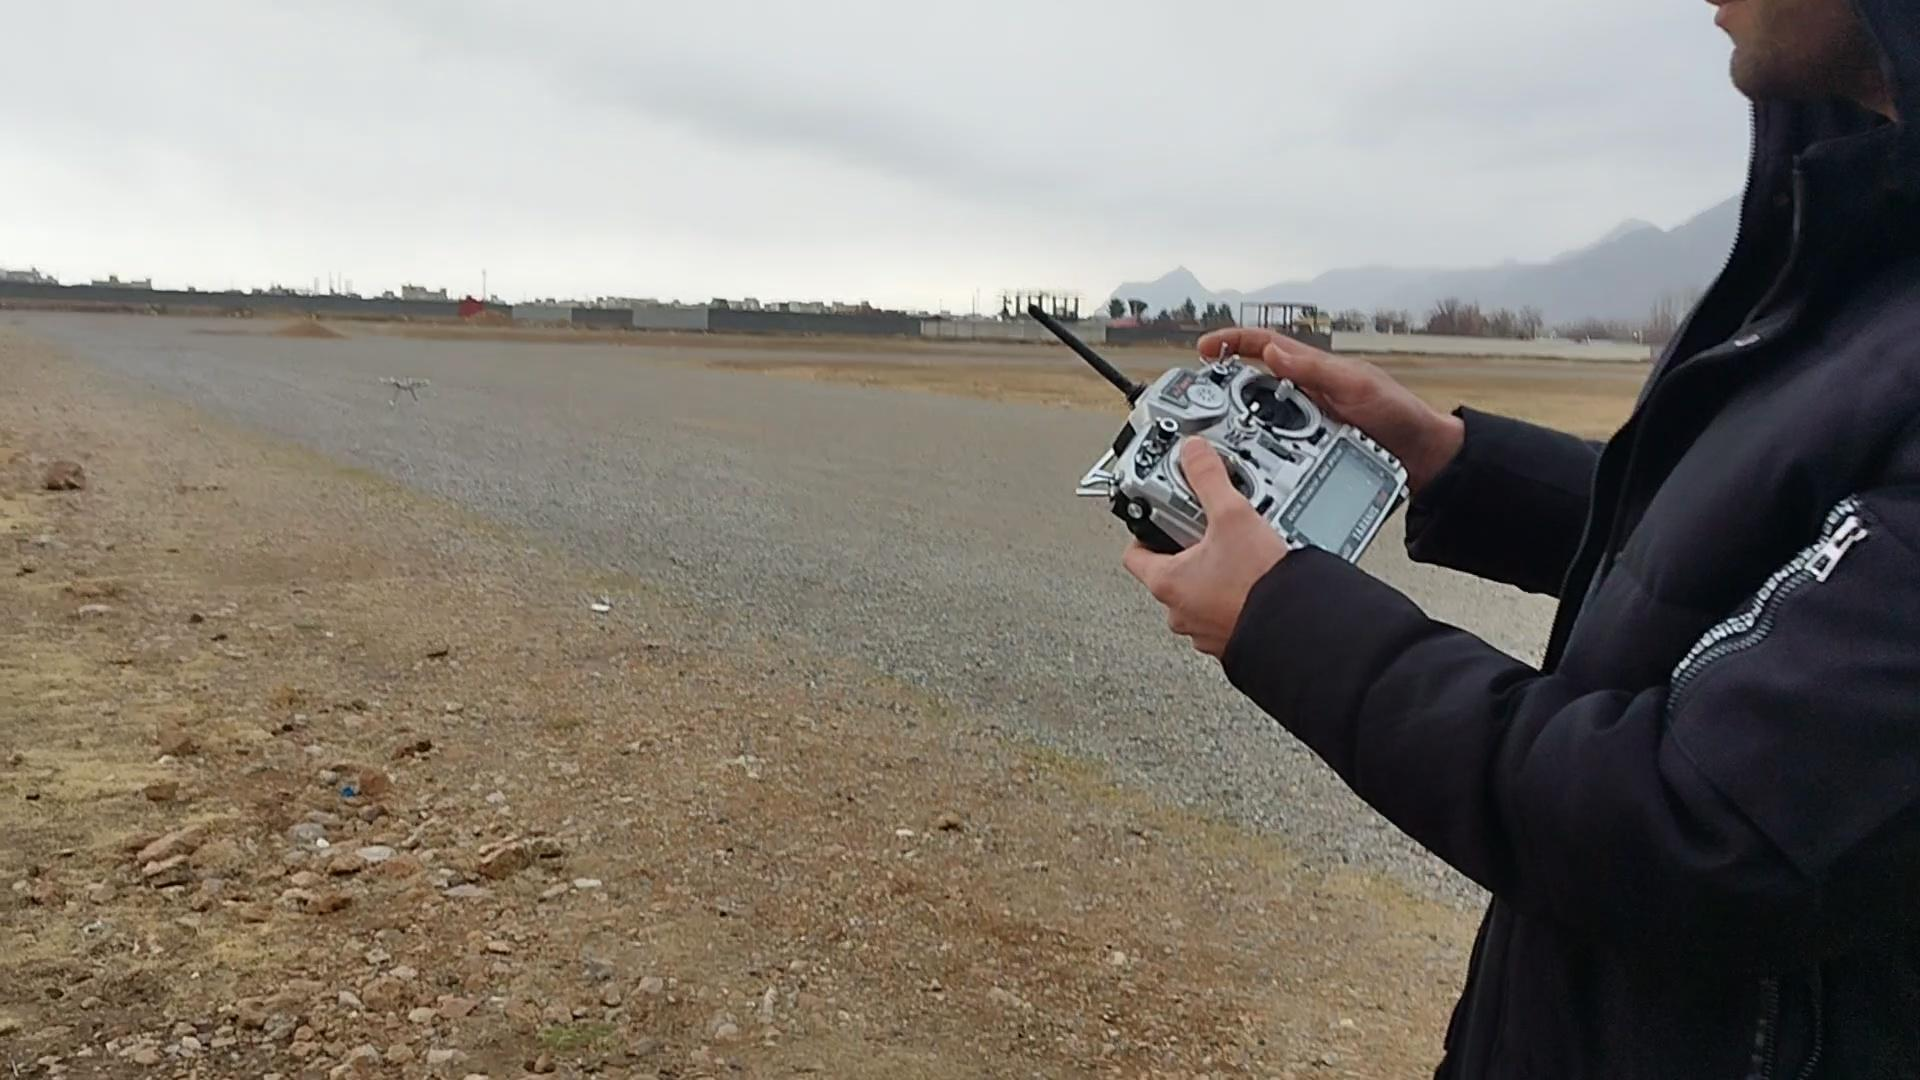drone: (375, 369, 433, 409)
